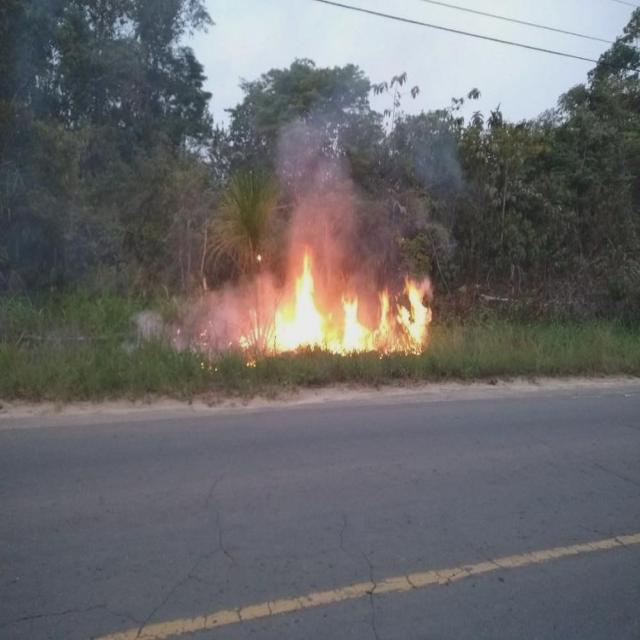Fire: (269, 240, 432, 360)
